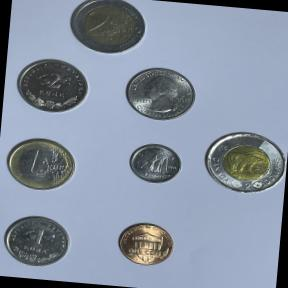coin: (194, 124, 288, 201), (120, 60, 200, 130), (11, 53, 95, 119), (62, 0, 150, 63), (0, 131, 81, 199), (114, 218, 176, 273), (124, 138, 188, 189)
